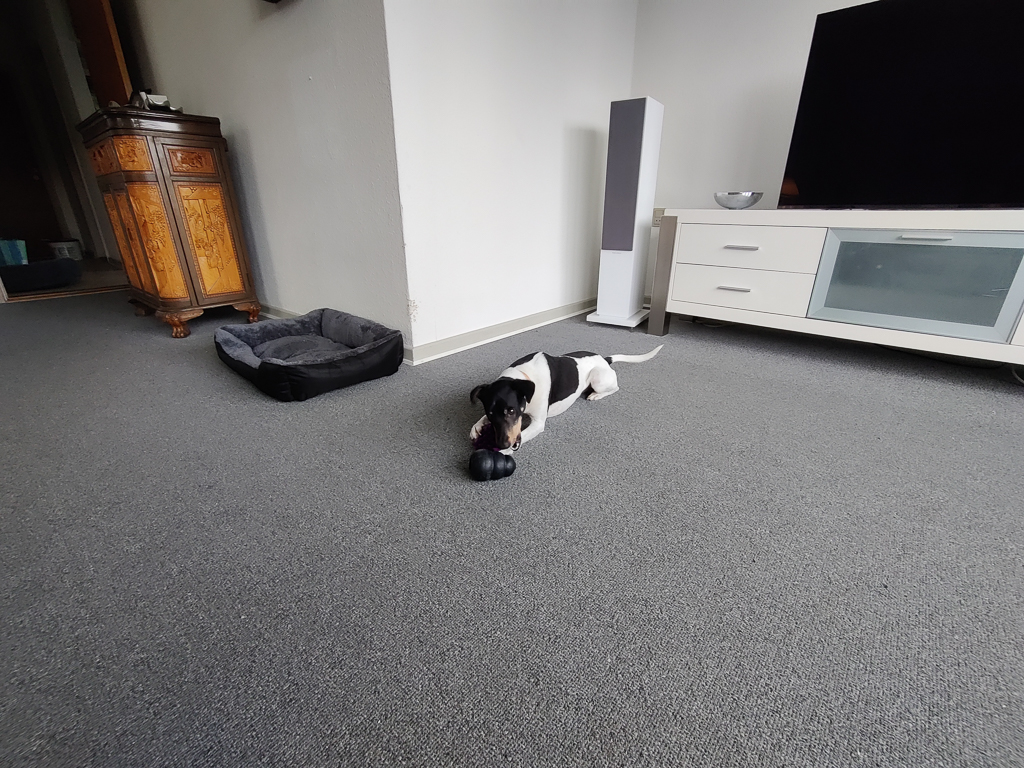Dog: (456, 336, 670, 463)
